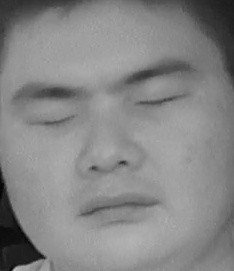blink: (134, 84, 187, 123), (28, 102, 79, 141)
mouth: (77, 185, 164, 229)
